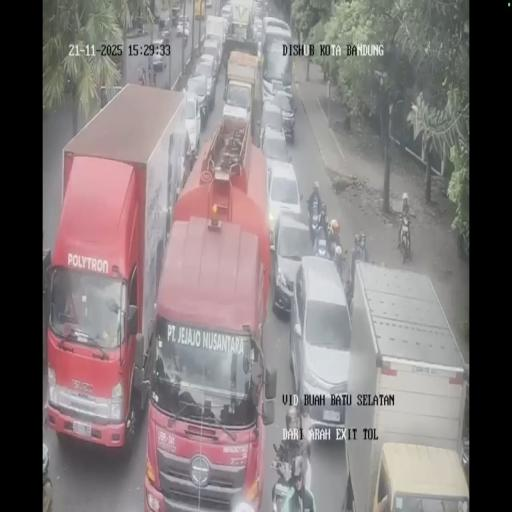car: (271, 209, 315, 317), (221, 78, 254, 135), (269, 87, 296, 143), (185, 74, 210, 128), (200, 40, 220, 79), (220, 2, 233, 30), (252, 18, 264, 47), (158, 13, 170, 30), (251, 0, 262, 18), (176, 15, 189, 29), (158, 28, 170, 40)
motorcycle: (396, 209, 414, 265), (310, 208, 326, 250), (331, 240, 345, 281)
truck: (46, 82, 194, 454), (339, 260, 468, 509), (261, 17, 293, 86)
